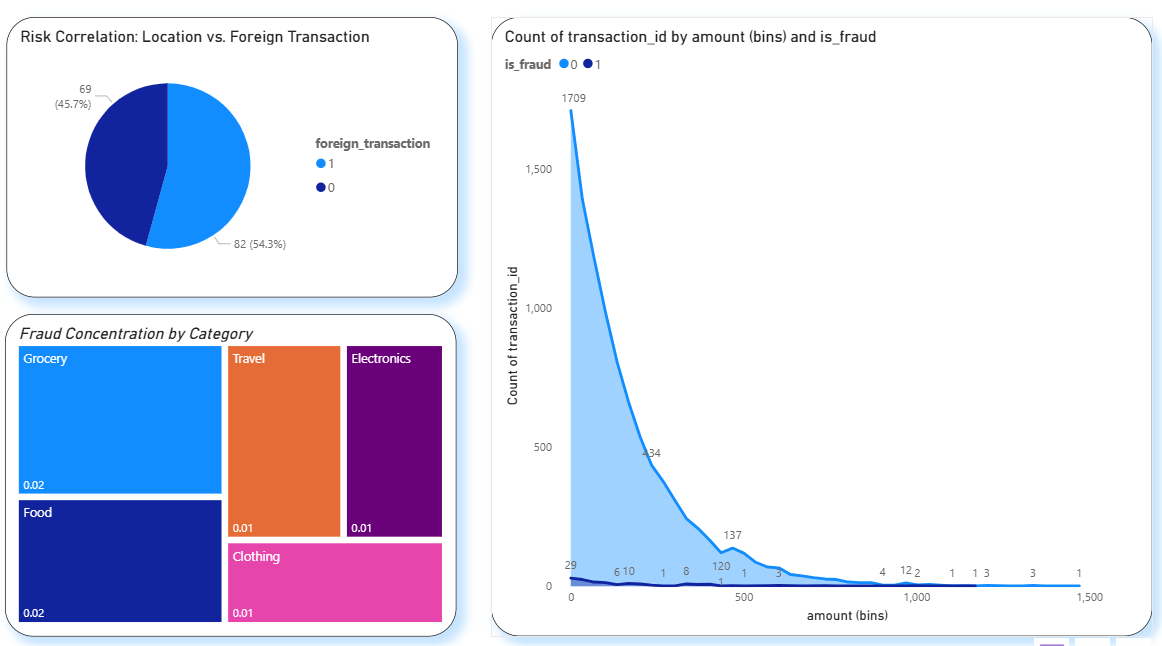

The dashboard page shown, as its layout file describes it:
{"tool":"powerbi","page":{"name":"Page 2","canvas":[1280,720],"ordinal":2},"visuals":[{"type":"areaChart","fields":{"Category":["credit_card_fraud_10k.amount (bins)"],"Y":["CountNonNull(credit_card_fraud_10k.transaction_id)"],"Series":["credit_card_fraud_10k.is_fraud"]},"box":[540.8,28.6,701.5,656.9],"z":0},{"type":"treemap","title":"Fraud Concentration by Category","fields":{"Group":["credit_card_fraud_10k.merchant_category"],"Values":["Avg(credit_card_fraud_10k.is_fraud)"]},"box":[25.4,343.6,478.8,342],"z":1000},{"type":"pieChart","title":"Risk Correlation: Location vs. Foreign Transaction ","fields":{"Category":["credit_card_fraud_10k.foreign_transaction"],"Y":["Sum(credit_card_fraud_10k.is_fraud)"]},"box":[27,28.6,478.8,297.4],"z":2000}]}

Visuals, with their boxes in screenshot pixels (x1, y1, x2, y2), scaled from the page's 1280x720 canvas onto the 1162x646 screenshot:
areaChart - credit_card_fraud_10k.amount (bins) x CountNonNull(credit_card_fraud_10k.transaction_id): [x1=491, y1=26, x2=1128, y2=615]
"Fraud Concentration by Category" treemap: [x1=23, y1=308, x2=458, y2=615]
"Risk Correlation: Location vs. Foreign Transaction " pieChart: [x1=25, y1=26, x2=459, y2=292]
